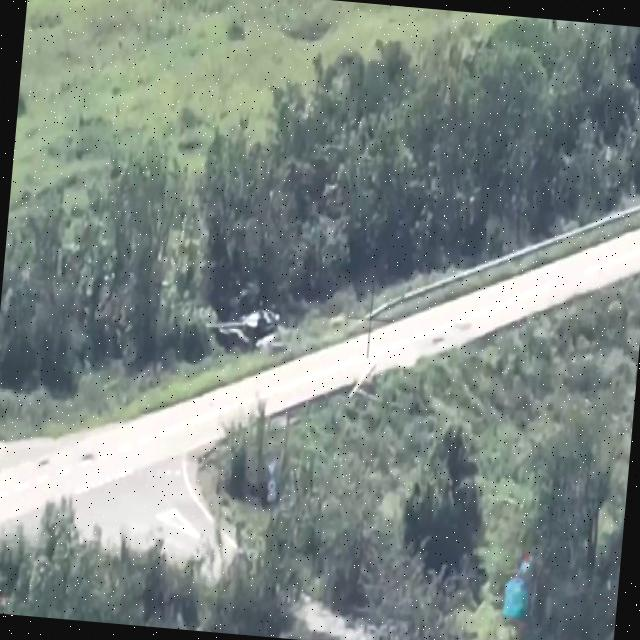MBT: (202, 302, 287, 361)
